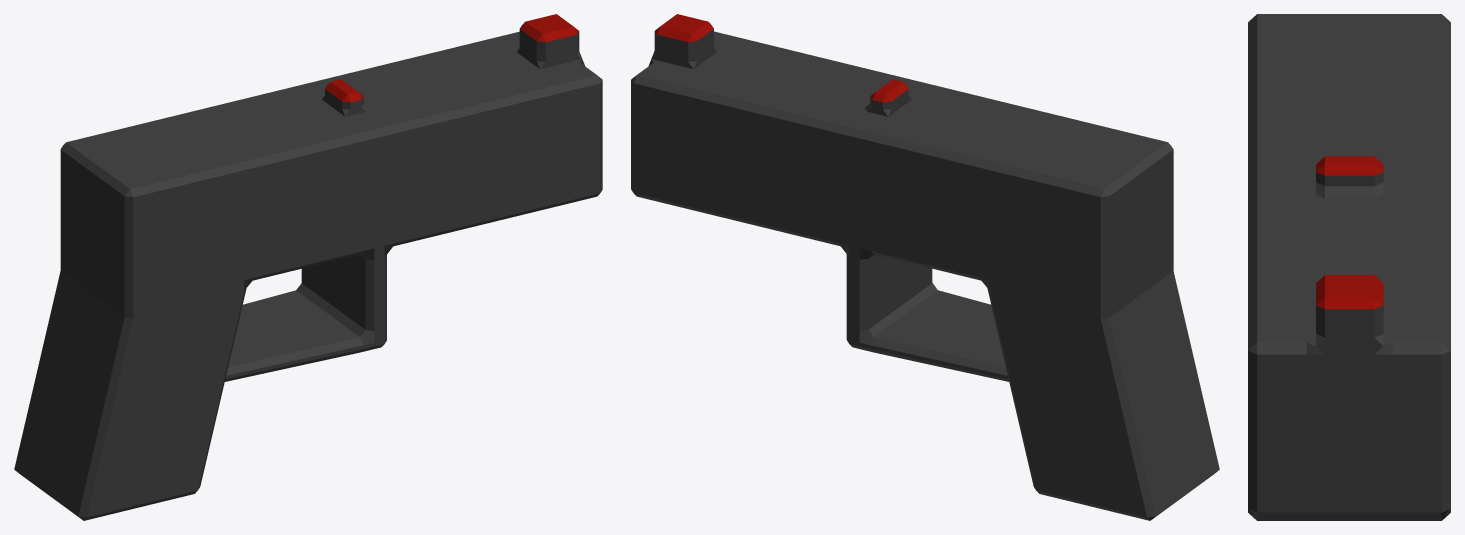
File: Gun Model.fbx
3 views of the same model, side by side, from view 1: azimuth 30°, elevation 25°; view 2: azimuth 150°, elevation 25°; view 3: azimuth 270°, elevation 25° (orthographic). The views are drawn at different scales.
Parts seen in each view (by area): view 1: Cube; view 2: Cube; view 3: Cube.
Part boxes in pixels (x1=…): Cube: x1=14, y1=14, x2=602, y2=520; Cube: x1=631, y1=14, x2=1219, y2=520; Cube: x1=1248, y1=14, x2=1450, y2=520.
Bounding box in the file's own units: 1118 × 717 × 260.
